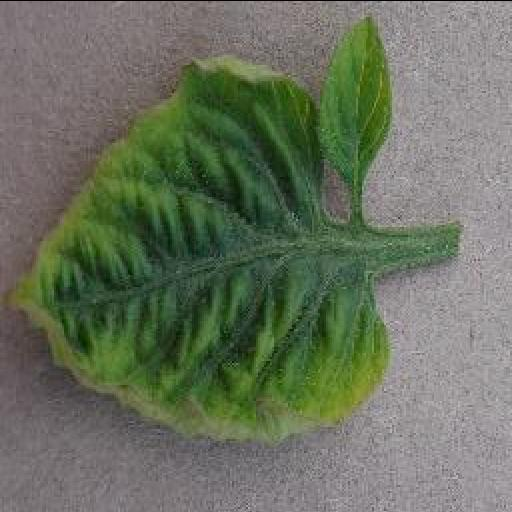disease_tomato: (6, 14, 392, 440)
